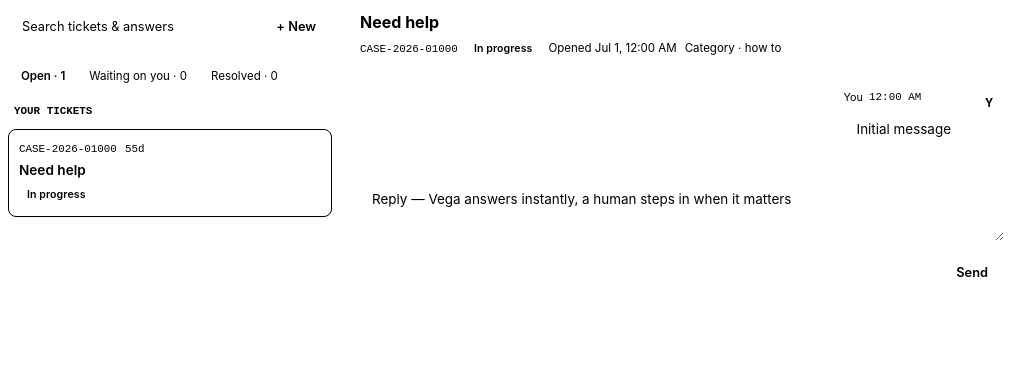
Test: SupportTab › does not let an in-flight poll erase a just-sent reply
Expected: the text "Initial message" is shown, [856,121,951,137]
Replace the text in the text box labelled "Reply" with "Just sent reply" at (682, 210), box [360,179,1004,241]
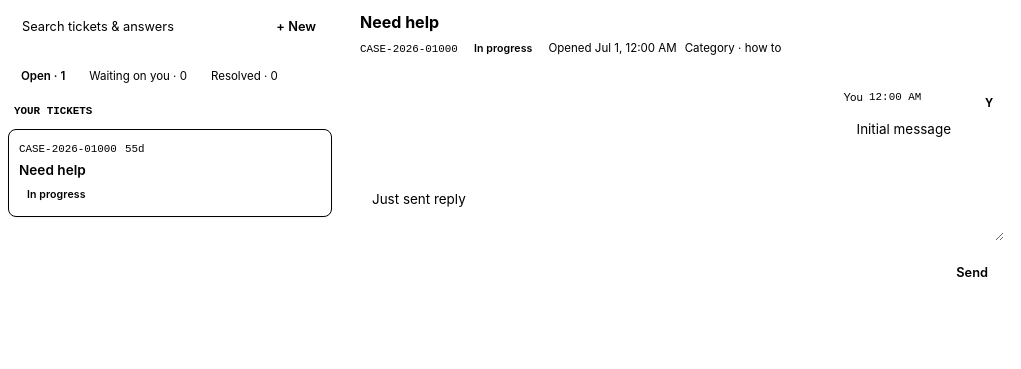
Click the button "Send" at (972, 273), box [940,255,1004,290]
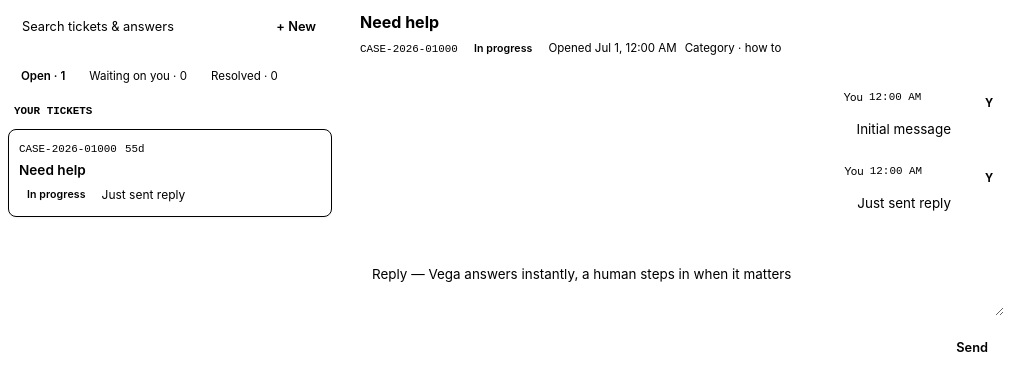
Result: the text "Just sent reply" below "Initial message" is shown at [857,195,951,211]
